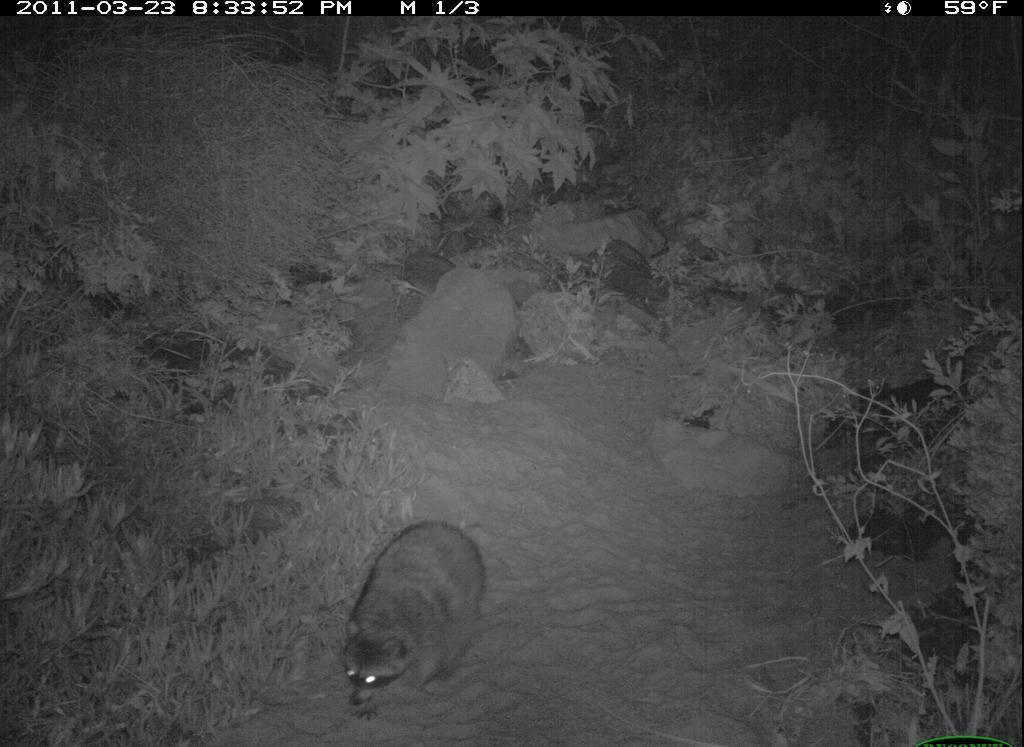raccoon: (324, 501, 500, 721)
